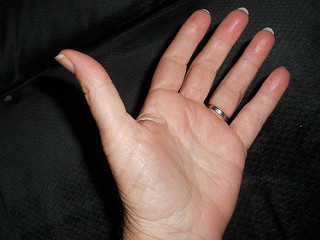palm: (107, 85, 247, 231)
